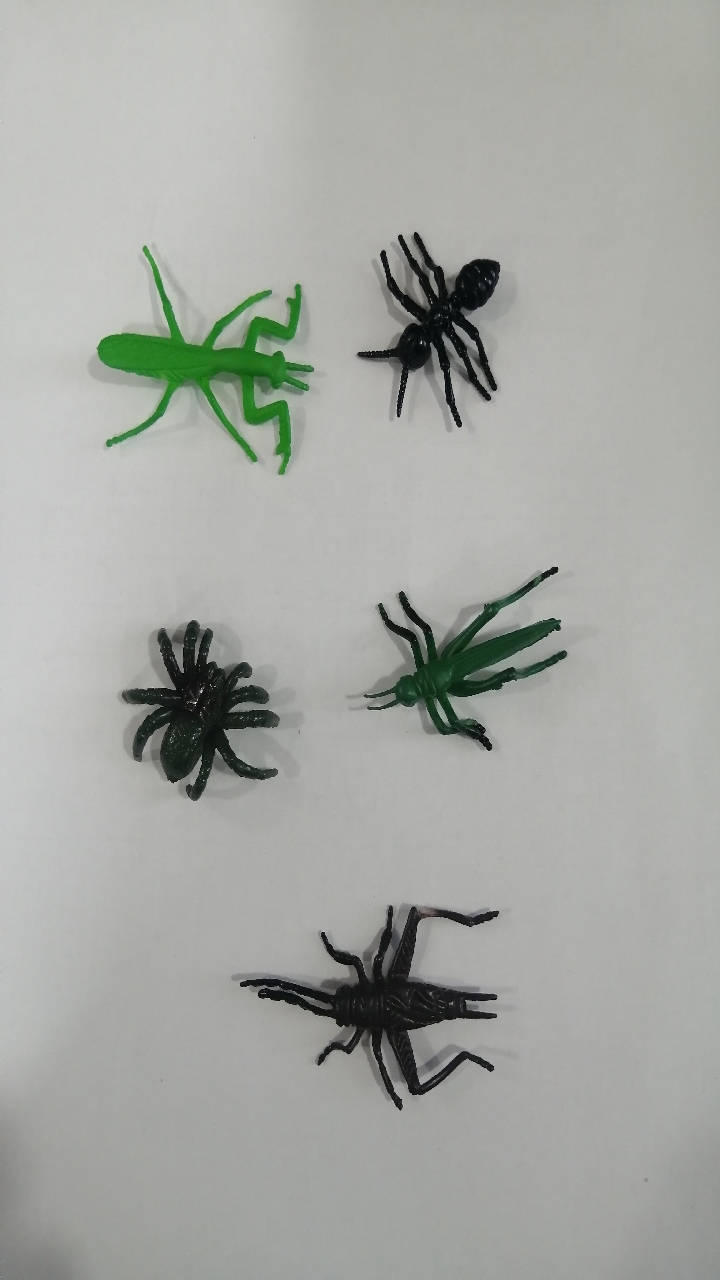intruso: (214, 872, 535, 1143), (43, 223, 317, 506), (334, 557, 618, 792), (81, 583, 321, 840), (346, 199, 518, 460)
